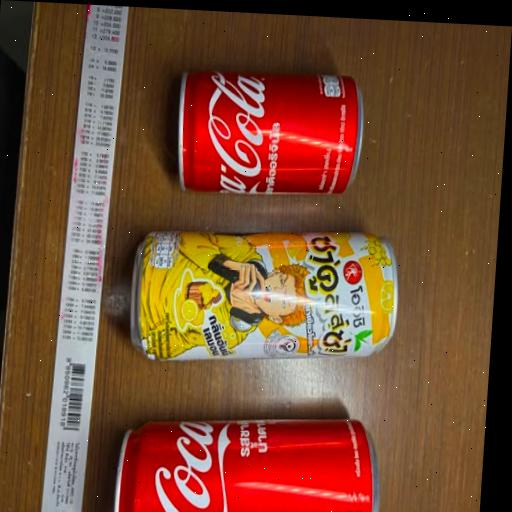canned: (115, 210, 406, 388), (159, 48, 378, 221), (101, 389, 400, 512)
